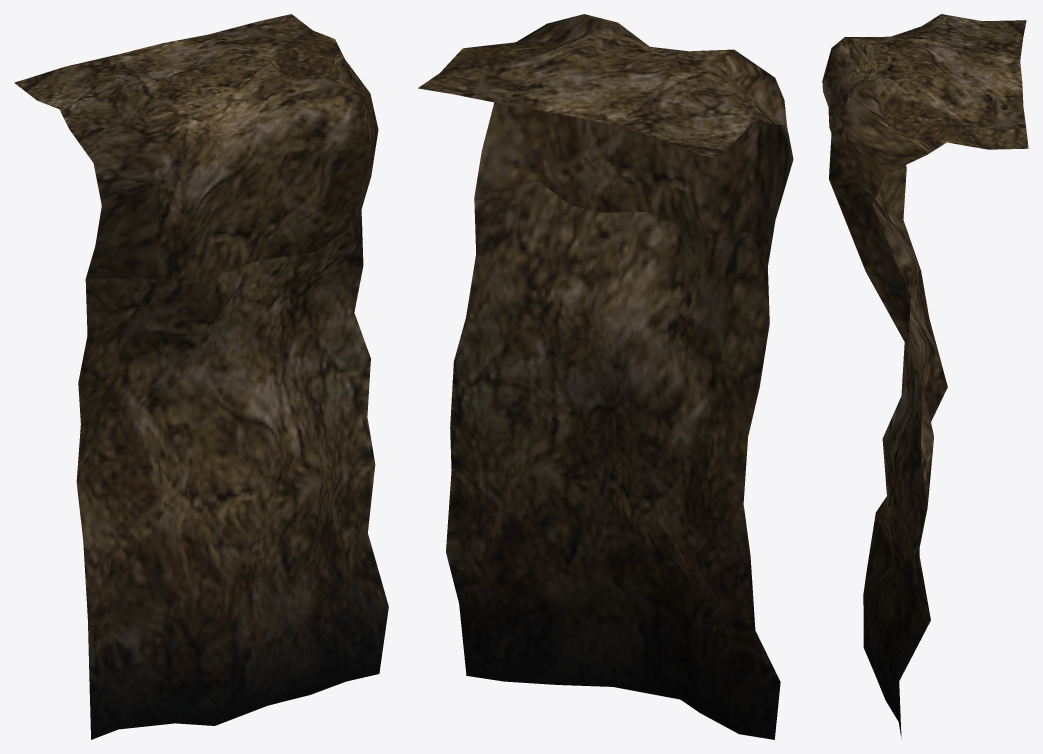
3 renders of one model, left to right at view 1: azimuth 30°, elevation 25°; view 2: azimuth 150°, elevation 25°; view 3: azimuth 270°, elevation 25°, orthographic. The views are drawn at different scales.
Visible parts, largest first — view 1: wj80; view 2: wj80; view 3: wj80.
Part boxes in pixels (left/top/right/bottom): wj80: left=14, top=14, right=388, bottom=739; wj80: left=418, top=14, right=793, bottom=739; wj80: left=822, top=14, right=1028, bottom=739.
Size of the model in its own units: 1859 by 3689 by 1144.
